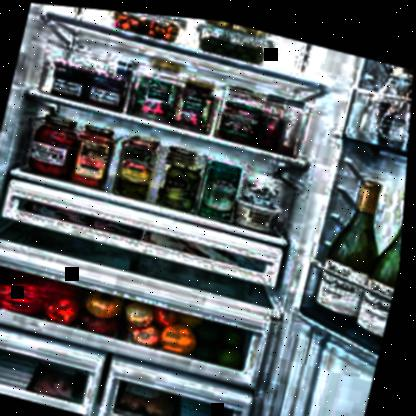apple: (126, 296, 161, 326), (134, 318, 167, 344), (156, 303, 185, 327)
beef: (119, 378, 190, 415)
chicken: (37, 364, 90, 400)
orange: (163, 315, 206, 352)
potato: (195, 15, 279, 38)
sweet_potato: (106, 8, 190, 43)
tomato: (47, 290, 87, 325)
yoghurt: (239, 162, 287, 204), (234, 194, 287, 231)
